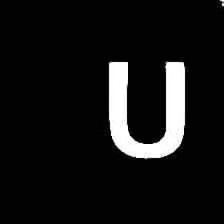LTR_U: (94, 48, 190, 163)
